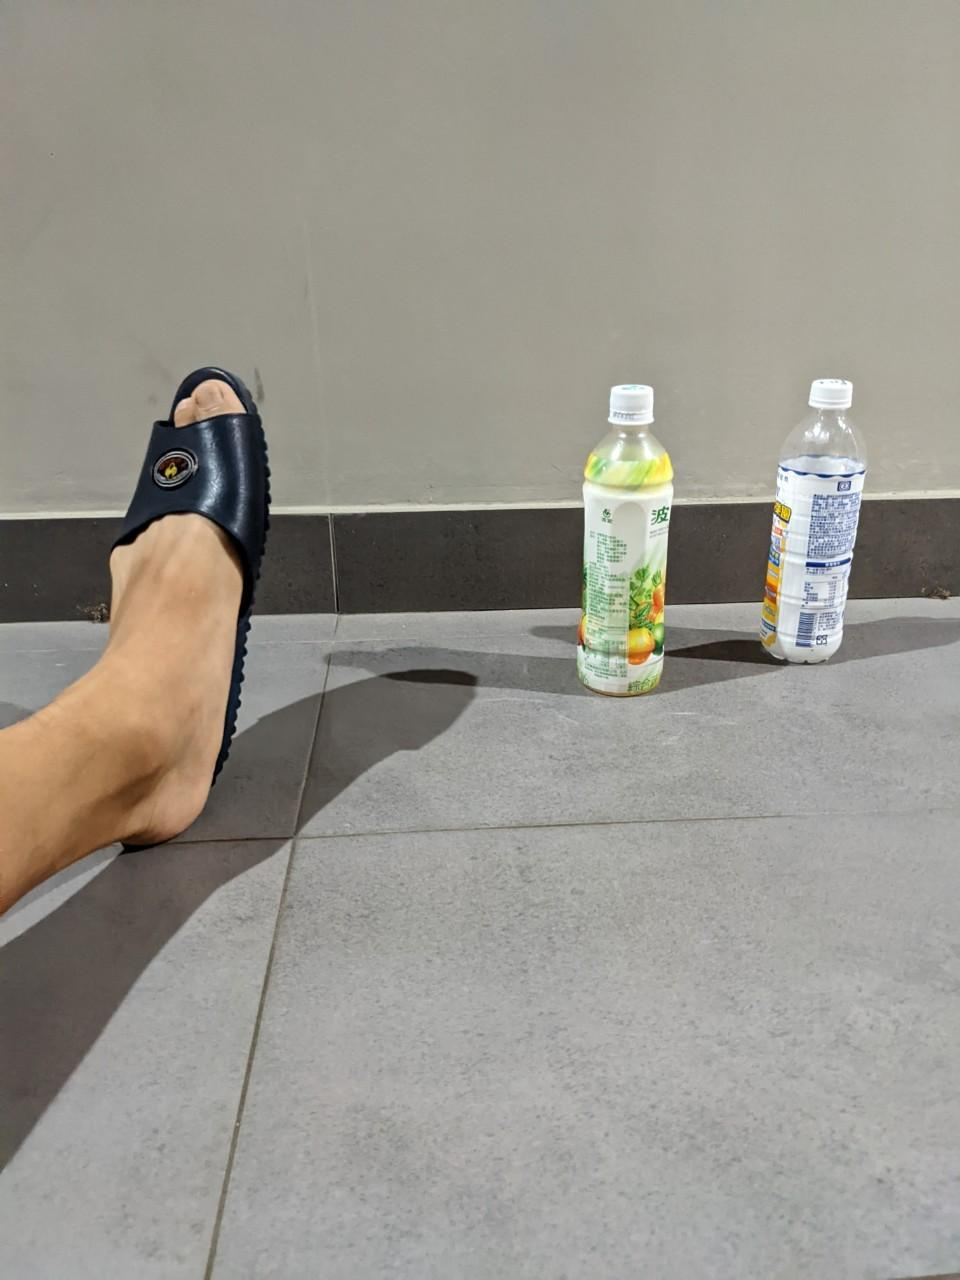BIODEGRADABLE: (565, 365, 681, 706), (752, 355, 872, 664)
